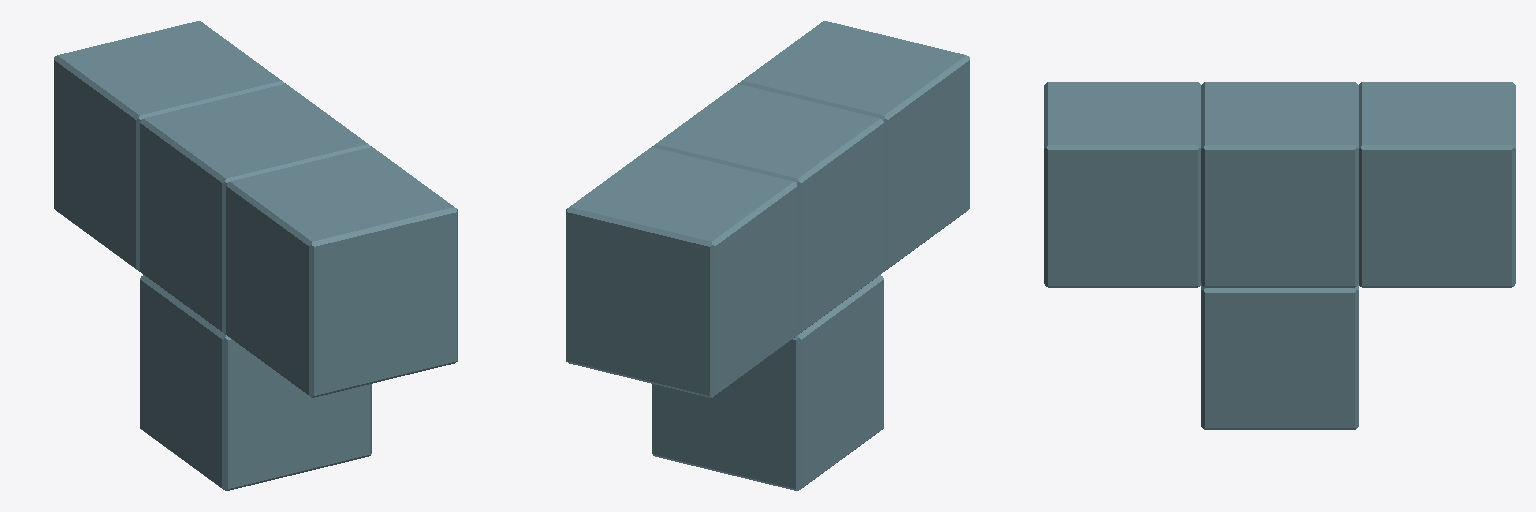
The robot description file, URDF, robot "cyan_block":
<?xml version="1.0"?>
<robot name="cyan_block">
	<link name="base_link">
		<visual>
			<geometry>
				<mesh filename="package://irsl_sim_environments/urdf/puzzle_blocks/cyan_block/cyan_block_base_link.dae" />
			</geometry>
		</visual>
		<collision>
			<origin xyz="0.000000000000e+00 0.000000000000e+00 0.000000000000e+00" rpy="0.000000000000e+00 -0.000000000000e+00 0.000000000000e+00" />
			<geometry>
				<box size="3.000000000000e-02 3.000000000000e-02 3.000000000000e-02" />
			</geometry>
		</collision>
		<collision>
			<origin xyz="0.000000000000e+00 -3.000000000000e-02 3.000000000000e-02" rpy="0.000000000000e+00 -0.000000000000e+00 0.000000000000e+00" />
			<geometry>
				<box size="3.000000000000e-02 3.000000000000e-02 3.000000000000e-02" />
			</geometry>
		</collision>
		<collision>
			<origin xyz="0.000000000000e+00 0.000000000000e+00 3.000000000000e-02" rpy="0.000000000000e+00 -0.000000000000e+00 0.000000000000e+00" />
			<geometry>
				<box size="3.000000000000e-02 3.000000000000e-02 3.000000000000e-02" />
			</geometry>
		</collision>
		<collision>
			<origin xyz="0.000000000000e+00 3.000000000000e-02 3.000000000000e-02" rpy="0.000000000000e+00 -0.000000000000e+00 0.000000000000e+00" />
			<geometry>
				<box size="3.000000000000e-02 3.000000000000e-02 3.000000000000e-02" />
			</geometry>
		</collision>
		<inertial>
			<mass value="0.021599999999999998" />
			<origin xyz="0.000000000000e+00 0.000000000000e+00 2.250000000000e-02" />
			<inertia ixx="1.6604999999999998e-05" ixy="0" ixz="0" iyy="6.8849999999999976e-06" iyz="0" izz="1.2959999999999998e-05" />
		</inertial>
	</link>
</robot>

--- Facts derived from the render (not from the file) ---
Views: 3 orthographic renders of the robot side by side, from view 1: azimuth 30°, elevation 25°; view 2: azimuth 150°, elevation 25°; view 3: azimuth 270°, elevation 25°.
Model cyan_block with 1 links and 0 joints (none), rooted at base_link, posed all joints at 0.
Links seen in each view (by area): view 1: base_link; view 2: base_link; view 3: base_link.
Link boxes in pixels (x1,y1,x2,y2): base_link: [54, 21, 457, 490]; base_link: [566, 21, 969, 490]; base_link: [1044, 82, 1515, 429].
Bounding box of the posed robot: 0.03 × 0.09 × 0.06 m (x, y, z).
Meshes: 1 distinct files referenced, 1 mesh visuals loaded (1 Collada DAE).